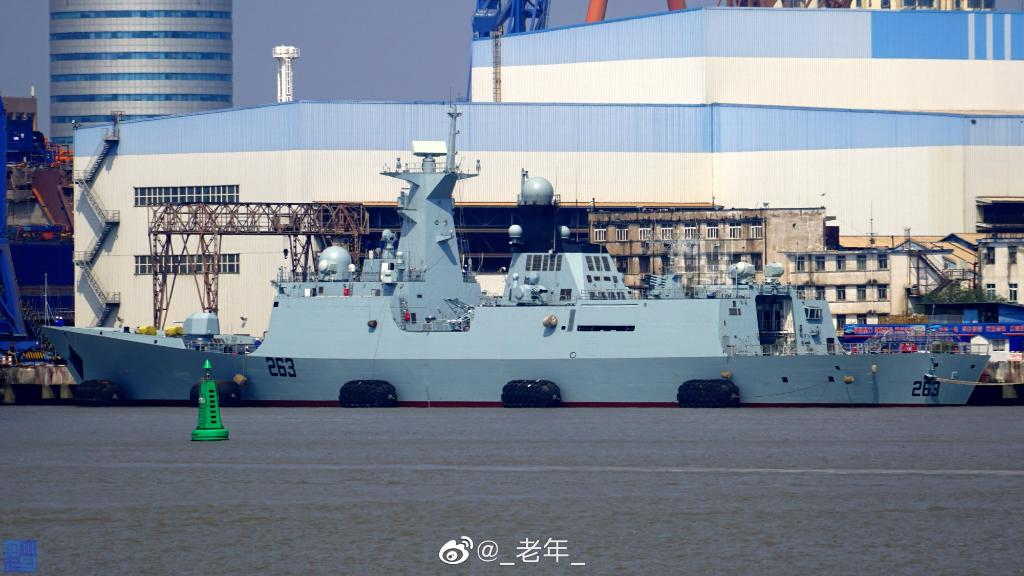Warship: (35, 106, 993, 404)
